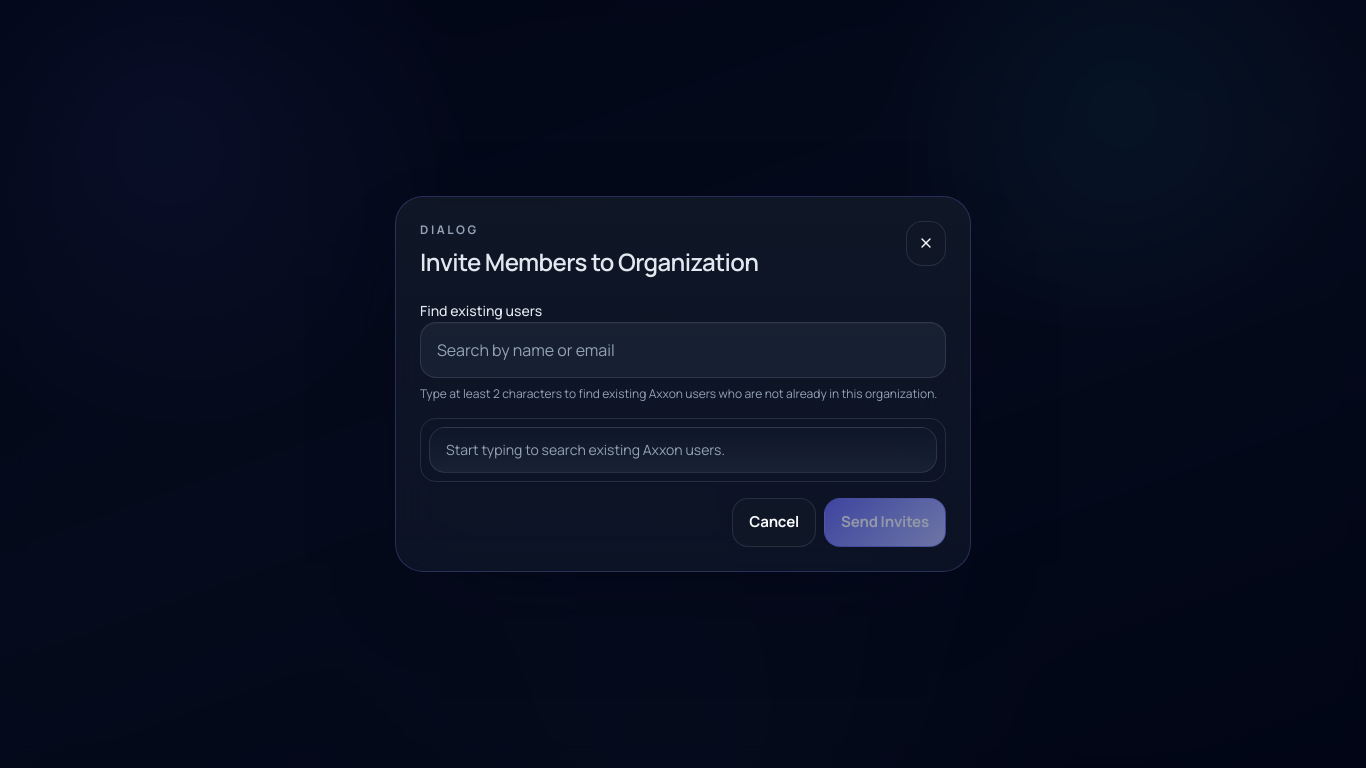
Scenario: InviteOrganizationMembersModal › starts empty and waits for a debounced search before loading users
Expected: the text "Start typing to search existing Axxon users." is shown, [429,427,937,473]
Type "a" into the field labelled "Find existing users" at (683, 350), box [420,322,946,378]
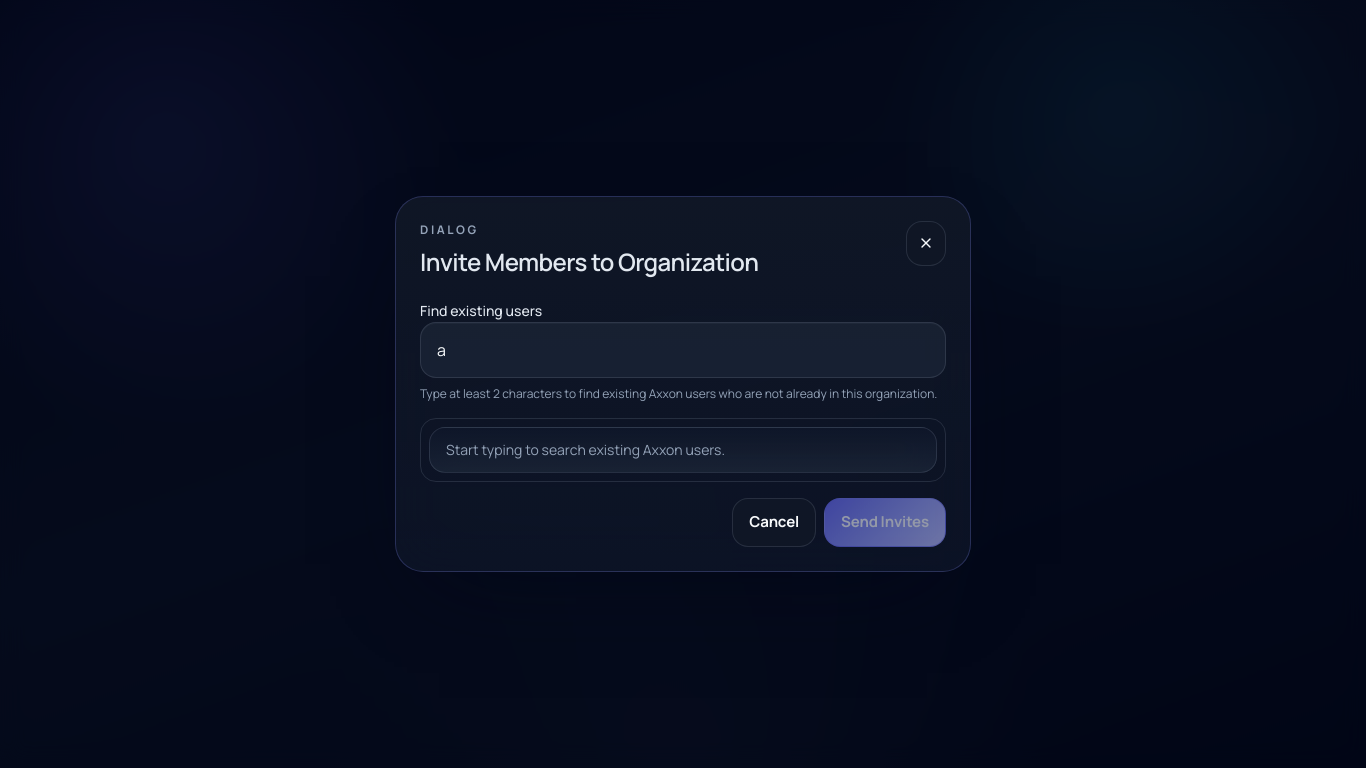
Replace the text in the field labelled "Find existing users" with "alex" at (683, 350), box [420,322,946,378]
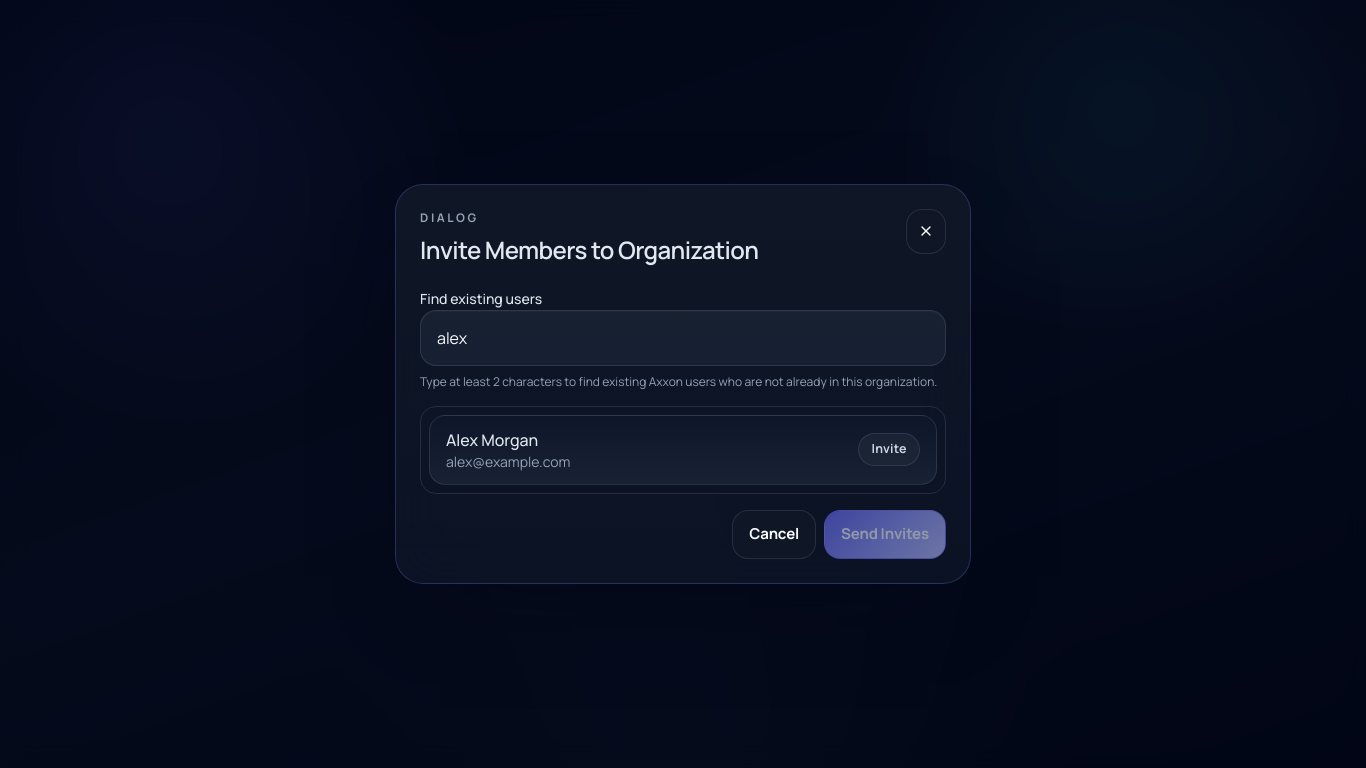
Result: the text "Alex Morgan" is shown at [446,429,538,451]
